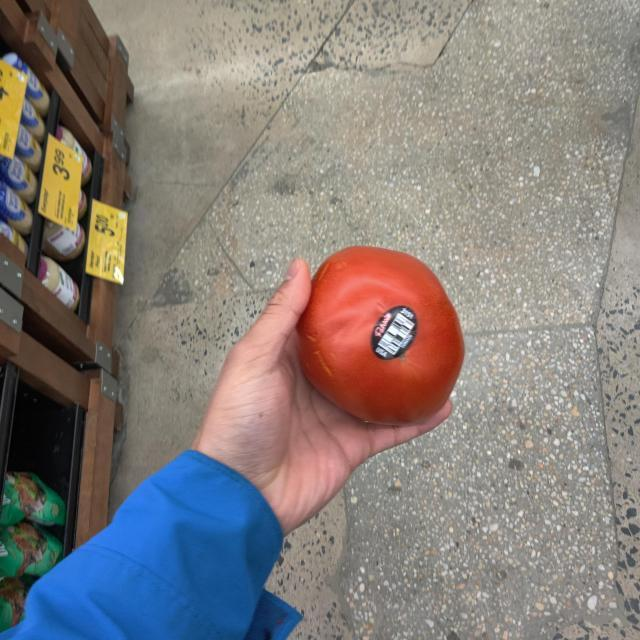Tomatoes: (297, 250, 479, 432)
